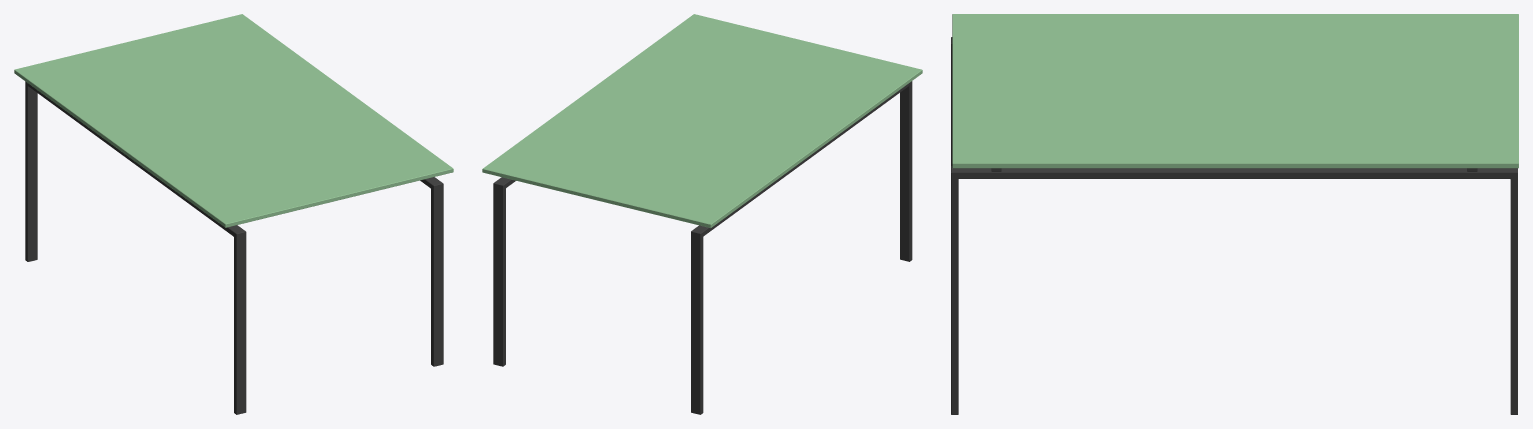
Rendered from Table.FBX.
3 renders of one model, left to right at view 1: azimuth 30°, elevation 25°; view 2: azimuth 150°, elevation 25°; view 3: azimuth 270°, elevation 25°, orthographic. The views are drawn at different scales.
Visible parts, largest first — view 1: table; view 2: table; view 3: table.
Boxes of the visible parts, x1,y1,x2,y2 form: table: (14,14,453,414); table: (482,14,922,414); table: (951,14,1518,414).
Size of the model in its own units: 73 by 59 by 117.
